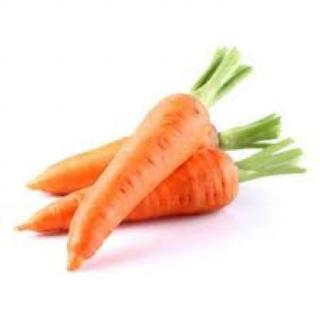Wortel: (63, 85, 217, 272)
